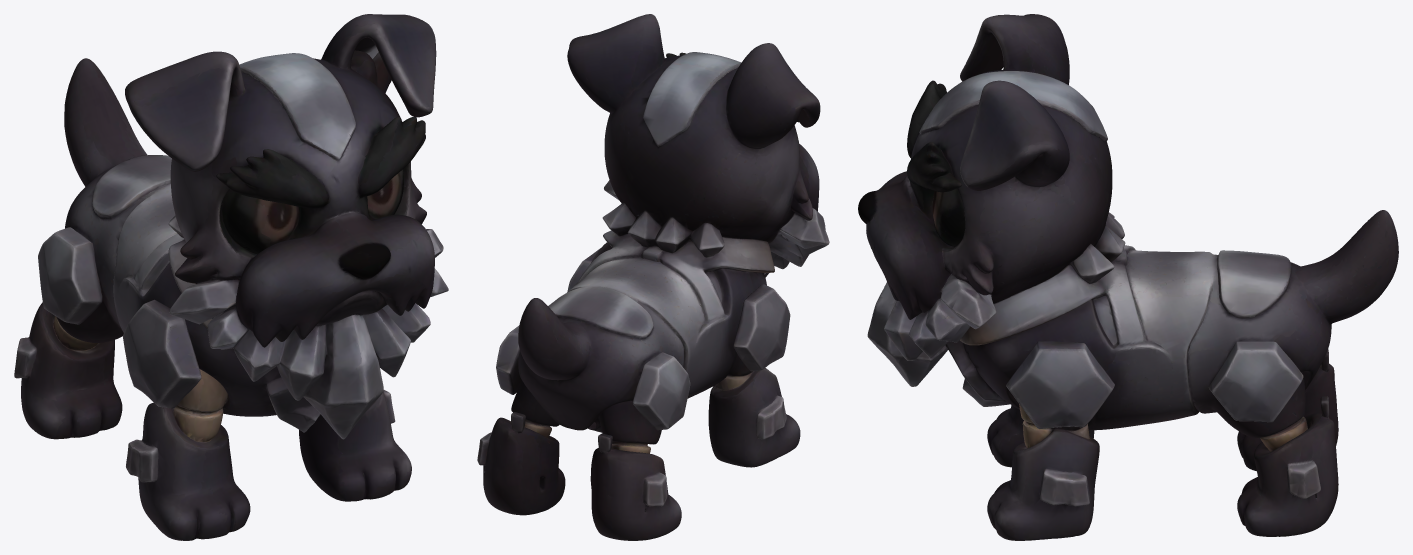
The model's file is Kiesel-optimized.glb.
The picture shows the model from 3 angles, left to right: view 1: azimuth 30°, elevation 25°; view 2: azimuth 150°, elevation 25°; view 3: azimuth 270°, elevation 25°; orthographic projection. The views are drawn at different scales.
Visible parts, largest first — view 1: world; view 2: world; view 3: world.
Boxes of the visible parts, left/top/right/bottom form: world: left=14, top=14, right=448, bottom=540; world: left=477, top=14, right=829, bottom=540; world: left=858, top=14, right=1398, bottom=540.
Bounding box in the file's own units: 0.5913 × 0.8983 × 1.
Materials: 1 (1 with a texture image).
